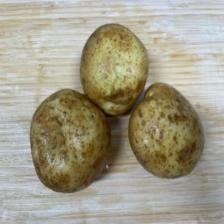Diseased-fungal potato: (30, 86, 112, 194), (128, 81, 207, 179), (76, 22, 146, 116)
